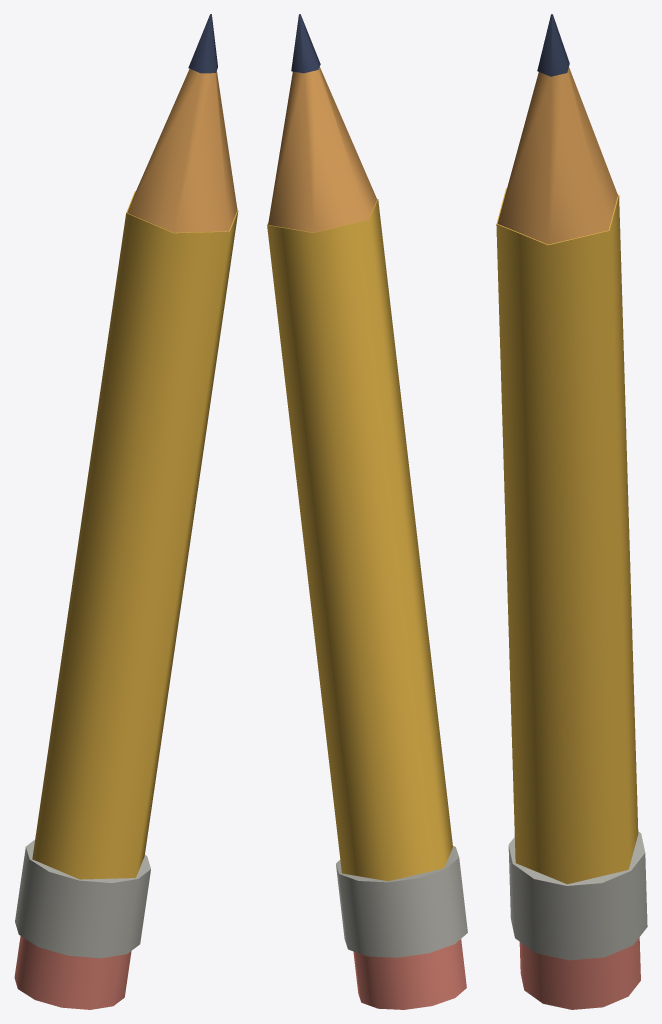
The model's file is pencil.glb.
3 renders of one model, left to right at view 1: azimuth 30°, elevation 25°; view 2: azimuth 150°, elevation 25°; view 3: azimuth 270°, elevation 25°, orthographic. The views are drawn at different scales.
Bounding box in the file's own units: 0.2441 × 1.11 × 0.1465.
